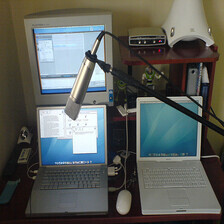laptop: (133, 91, 216, 219), (28, 97, 114, 220)
